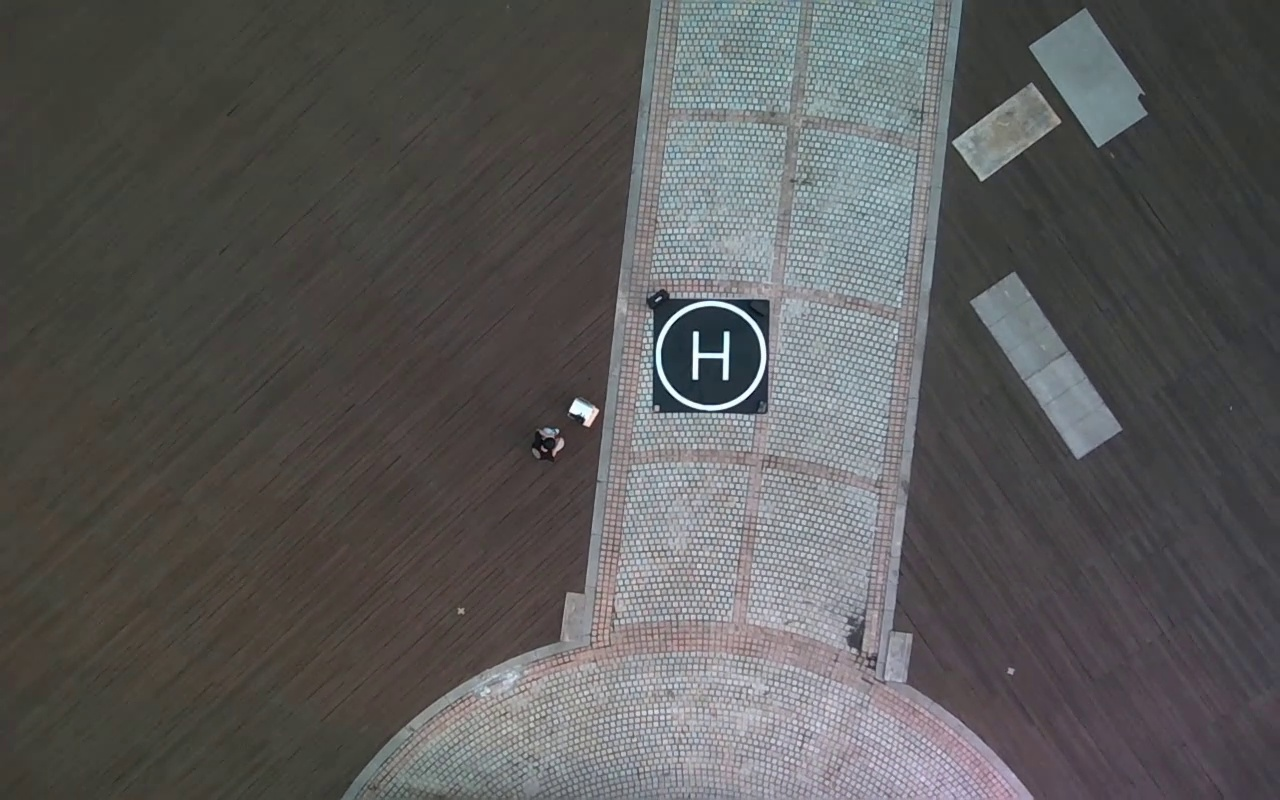H: (689, 330, 731, 383)
heliport: (655, 299, 767, 412)
